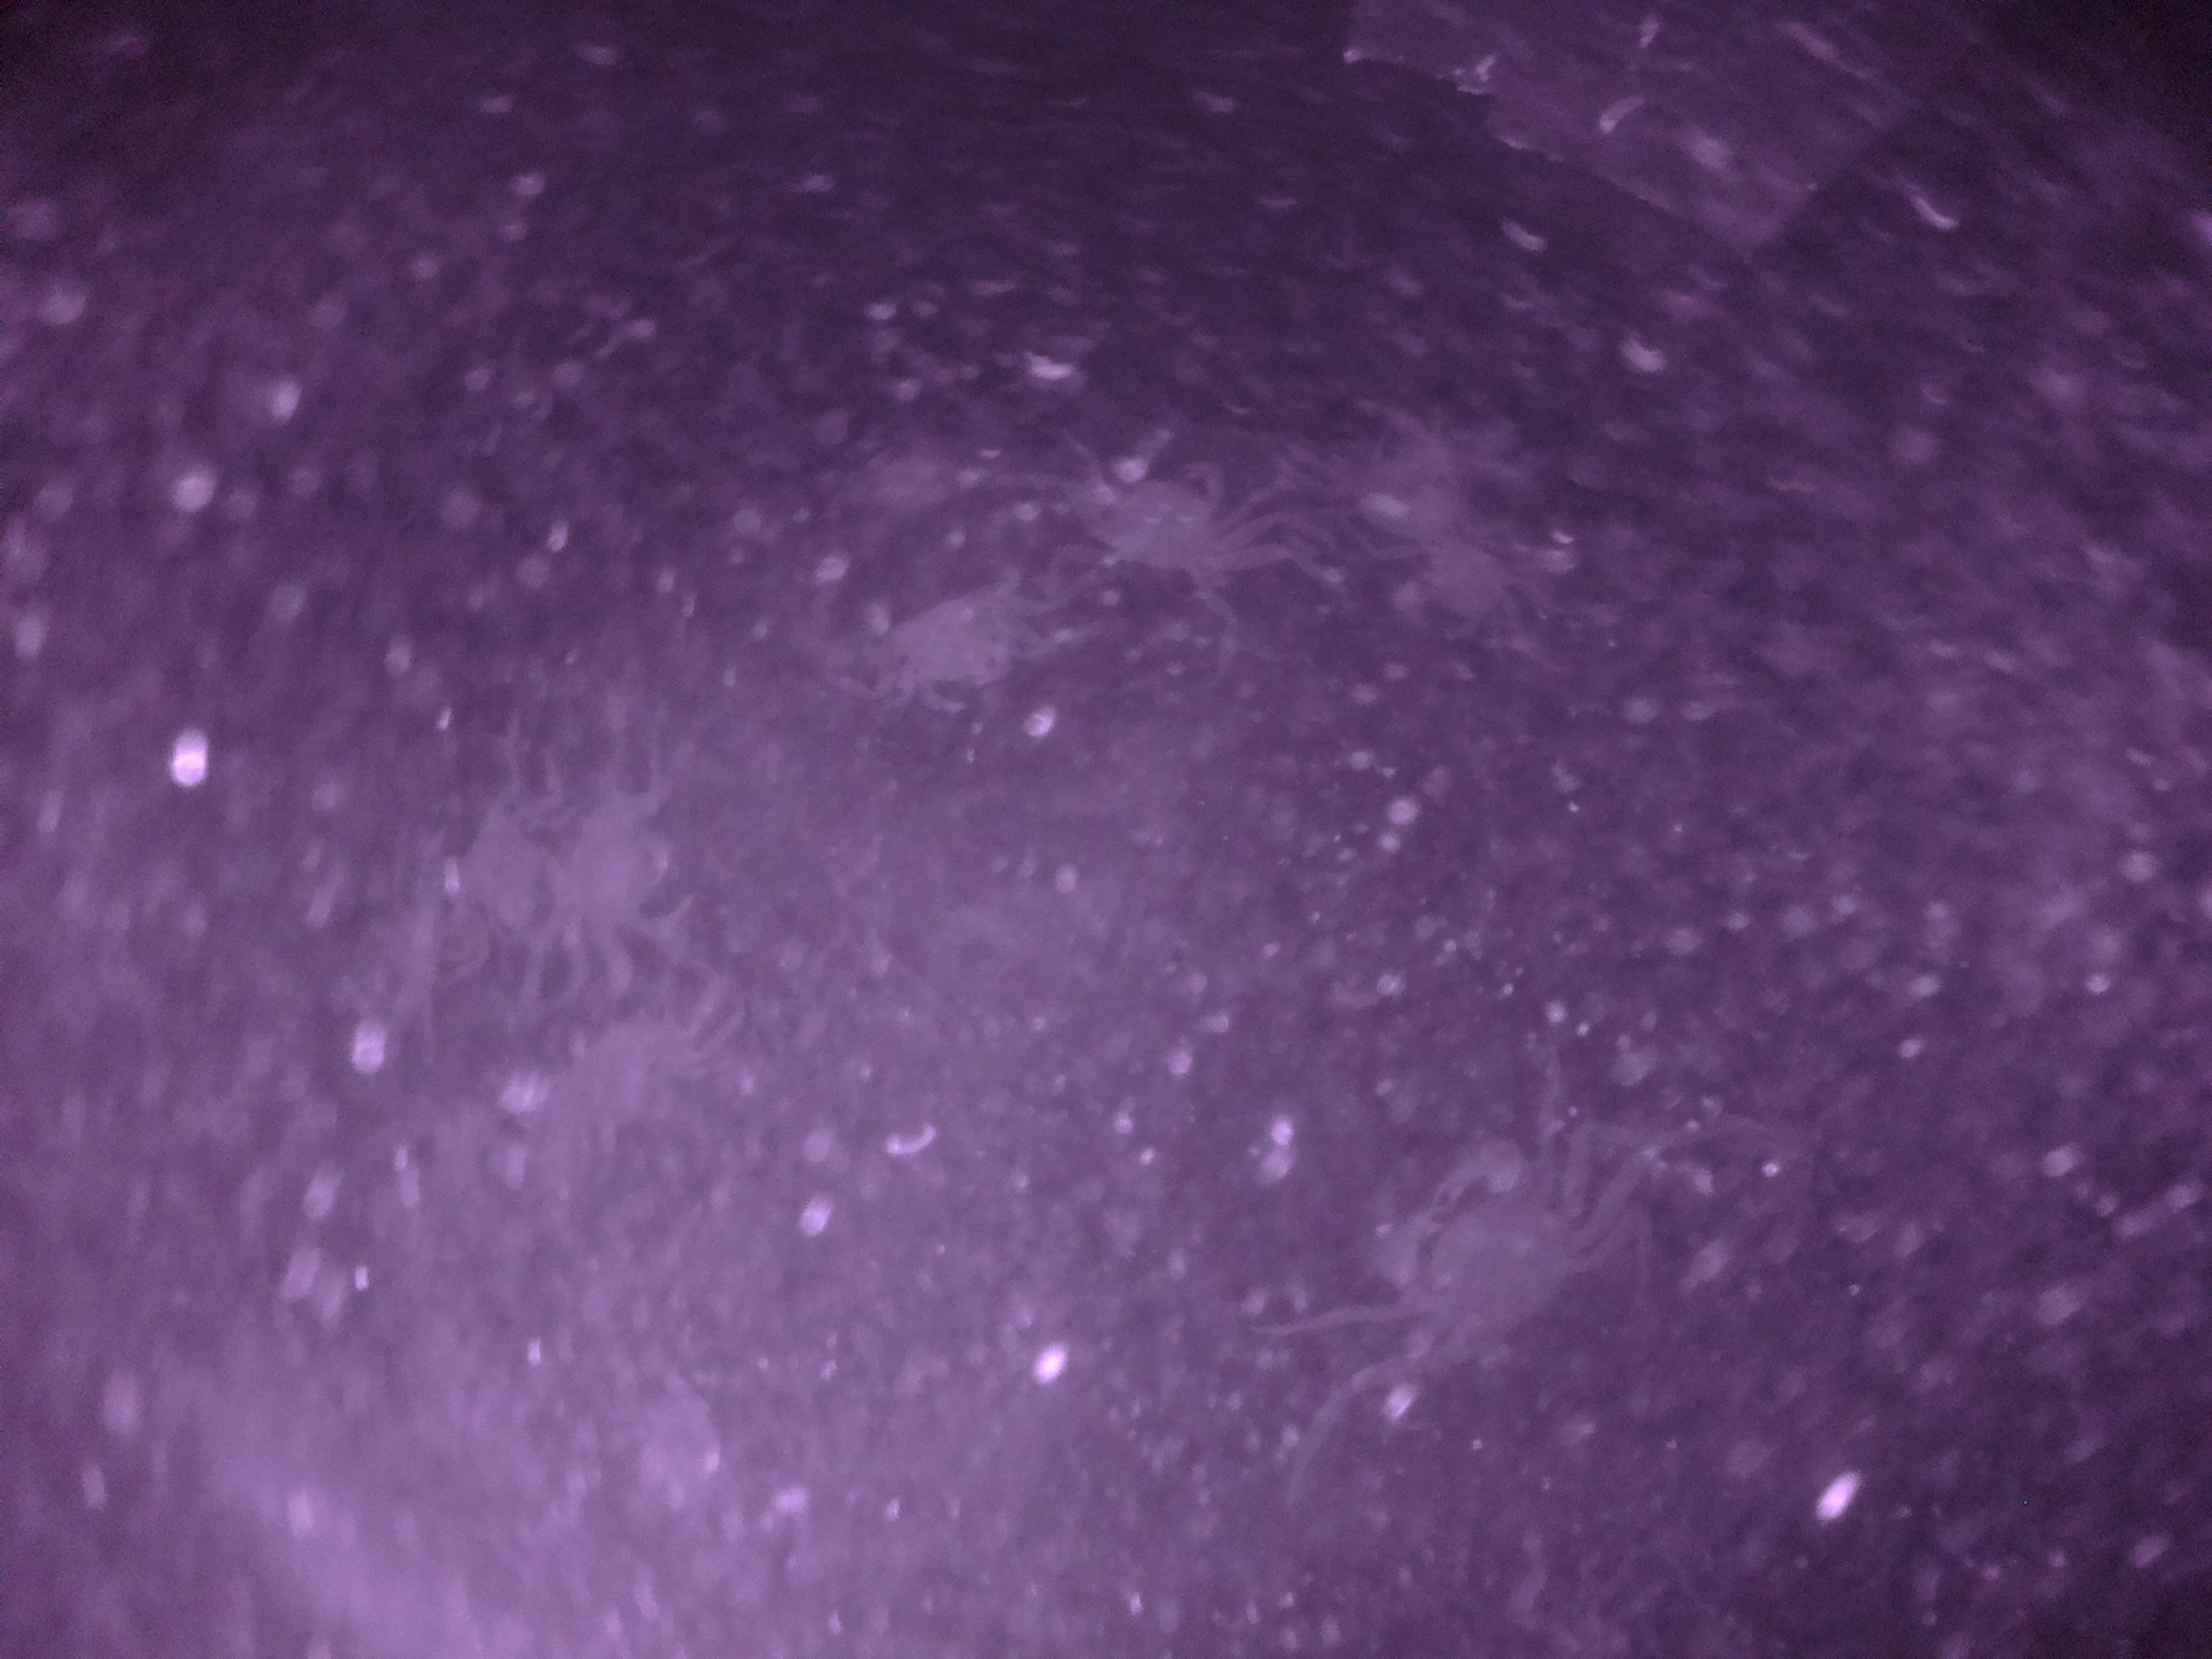Crab: (1071, 432, 1273, 612)
